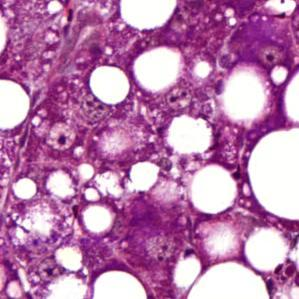steatosis: (188, 162, 237, 214), (83, 63, 130, 106), (80, 205, 119, 233)
